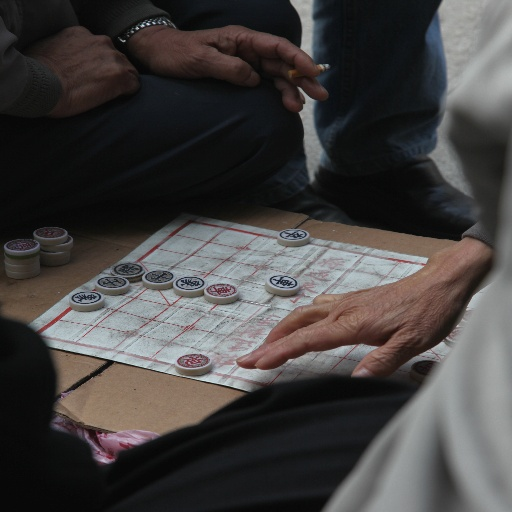hand: (232, 255, 474, 379), (126, 24, 329, 114), (25, 25, 139, 118)
